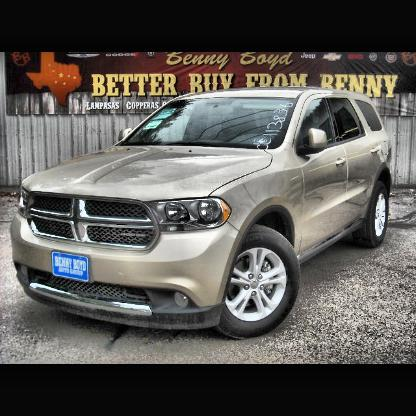Dodge Durango SUV 2012: (12, 88, 395, 341)
